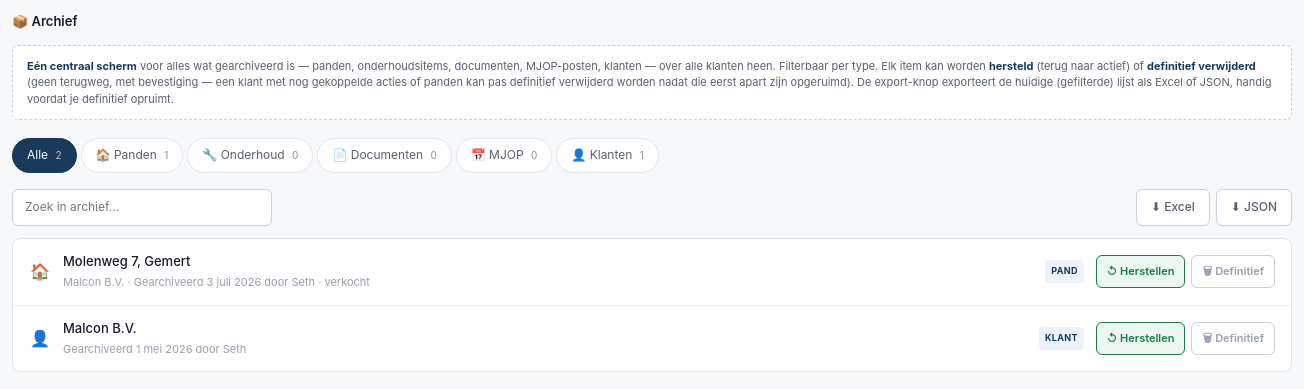
ArchiefPage › filtert op het klant-type via de filtertabs
What coordinates should you click on to do the following:
click the button "👤 Klanten 1"
I would click on:
 (608, 156)
Its box is left=556, top=138, right=659, bottom=173.
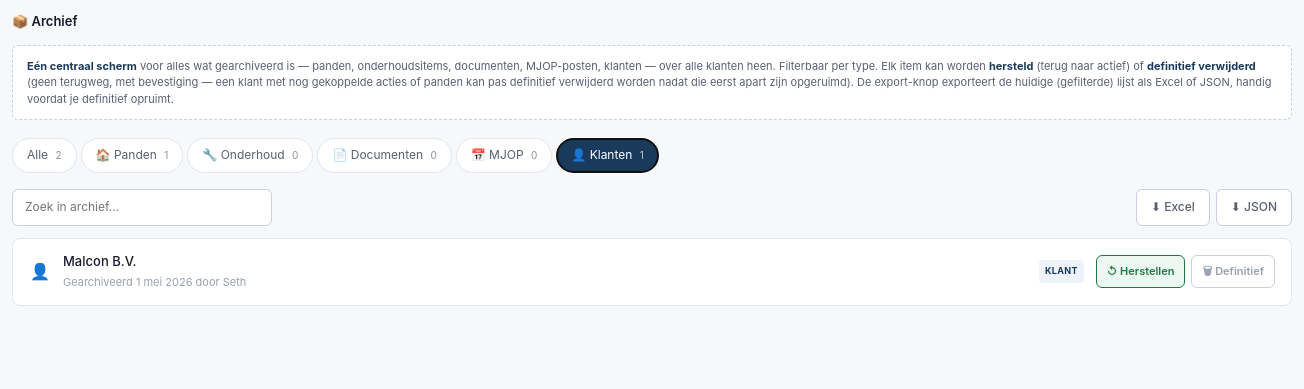
Expected: the text "Malcon B.V." is shown once, left=63, top=253, right=137, bottom=269
Expected: the text "Molenweg 7, Gemert" is gone
